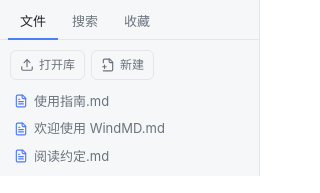
Scenario: Sidebar — 文件树渲染 › 右键节点弹出上下文菜单
Step 1. Right-click the text "使用指南.md" → (72,100), box [34, 92, 109, 108]
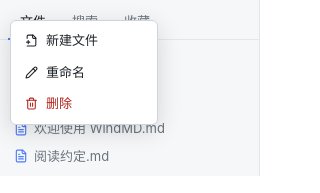
Expected: the menu with class "tree-menu" is shown, [10, 20, 158, 124]
Expected: the menu item "新建文件" is shown, [15, 25, 153, 56]
Expected: the menu item "重命名" is shown, [15, 56, 153, 88]
